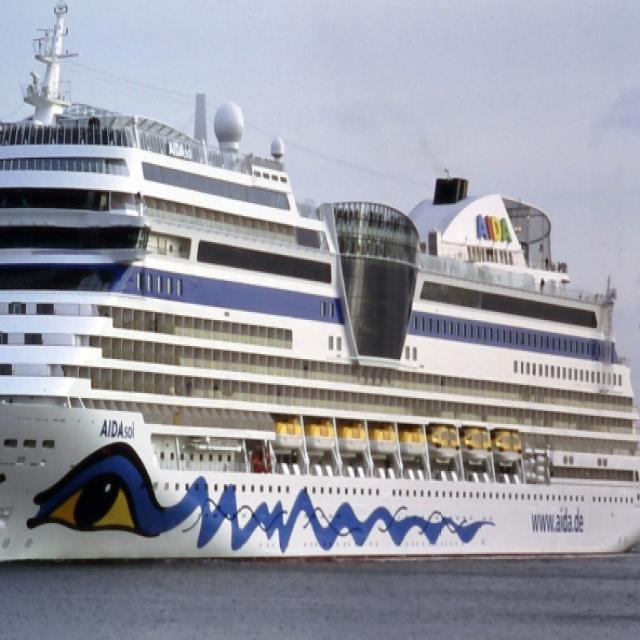cruises: (1, 1, 640, 581)
